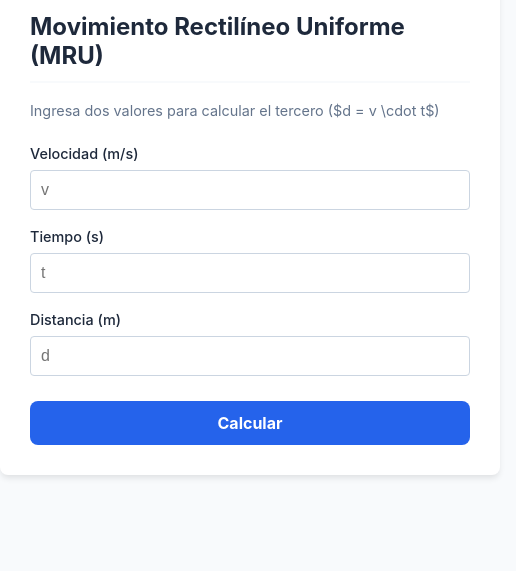
it: MRU Component › should show error when not enough values are provided
Click the button "Calcular" at (250, 423), box [30,401,470,445]
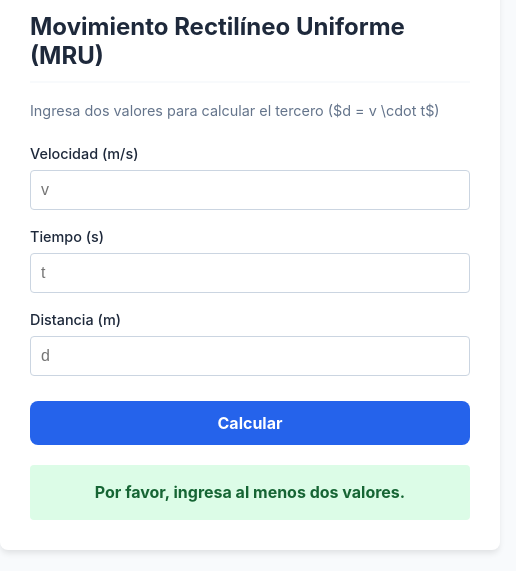
expect the text "Por favor, ingresa al menos dos valores." is shown: met, box [30,465,470,520]
